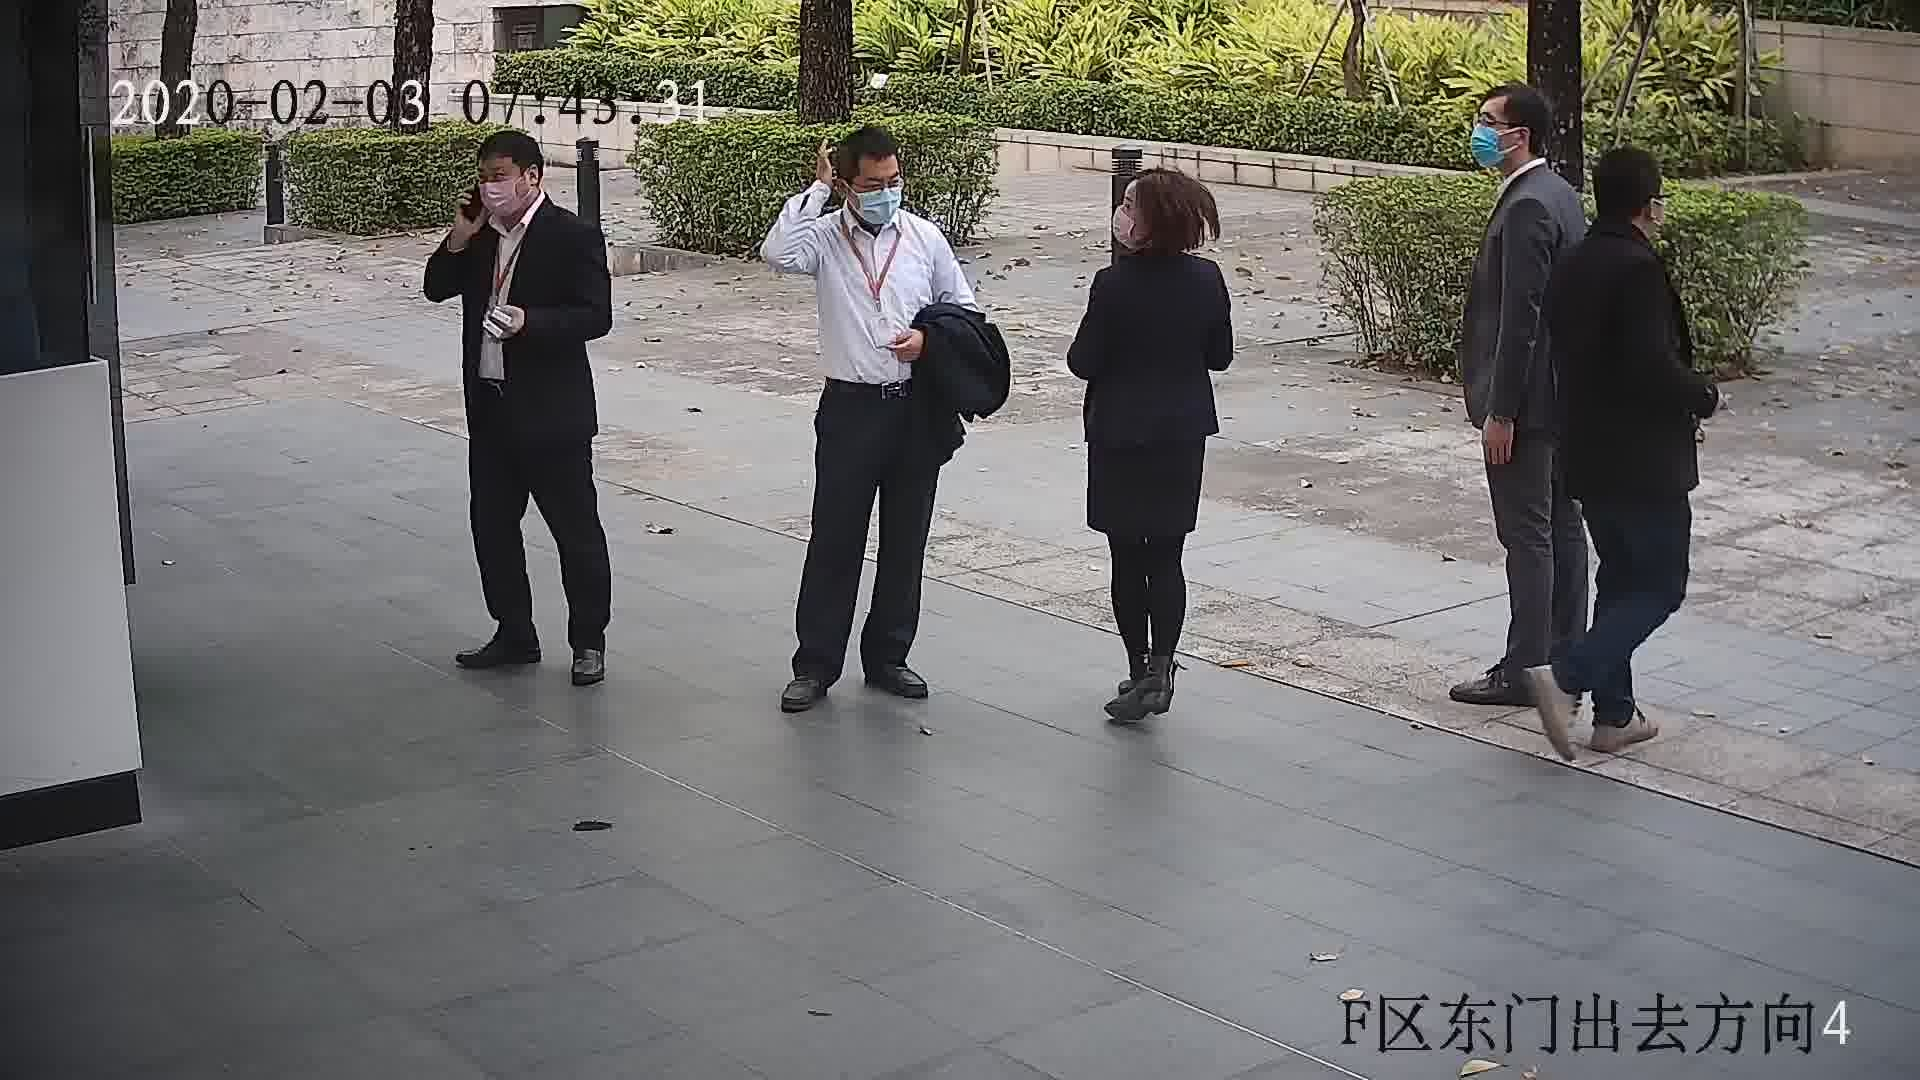face: (1468, 88, 1520, 181), (841, 148, 905, 214), (480, 153, 542, 215), (1109, 177, 1147, 246)
mask: (849, 183, 905, 224), (476, 176, 522, 218), (1470, 118, 1503, 166), (1108, 204, 1135, 245)
person: (788, 121, 950, 255), (459, 127, 601, 265), (1090, 172, 1232, 307), (1558, 142, 1674, 295), (1474, 81, 1584, 231)
